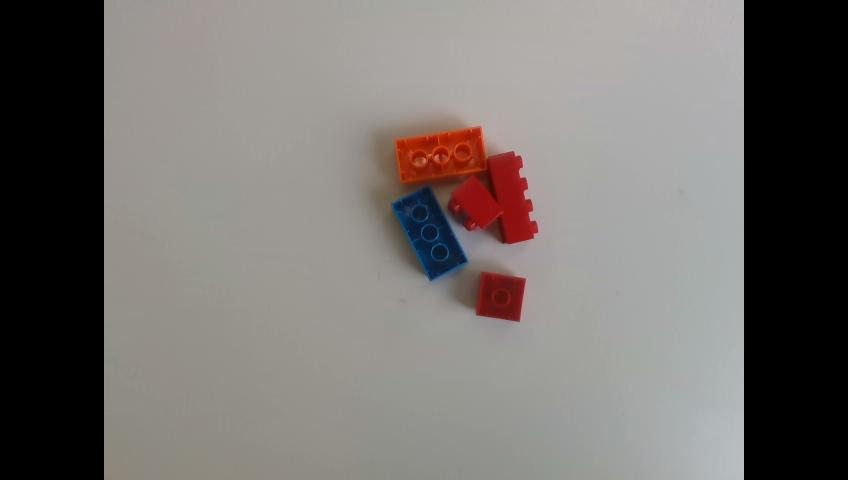2x2_red: (447, 175, 506, 233), (477, 273, 527, 323)
4x2_blue: (391, 183, 470, 283)
4x2_orange: (396, 127, 489, 182)
4x2_red: (487, 152, 539, 244)
